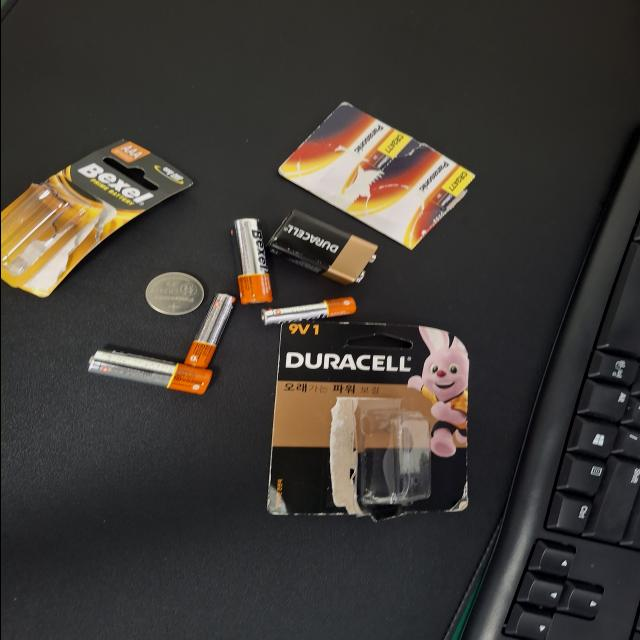9V: (261, 200, 361, 282)
AA: (114, 65, 174, 158), (234, 173, 350, 203)
AAA: (150, 138, 249, 176), (206, 196, 244, 266)
COIN: (220, 108, 278, 152)
